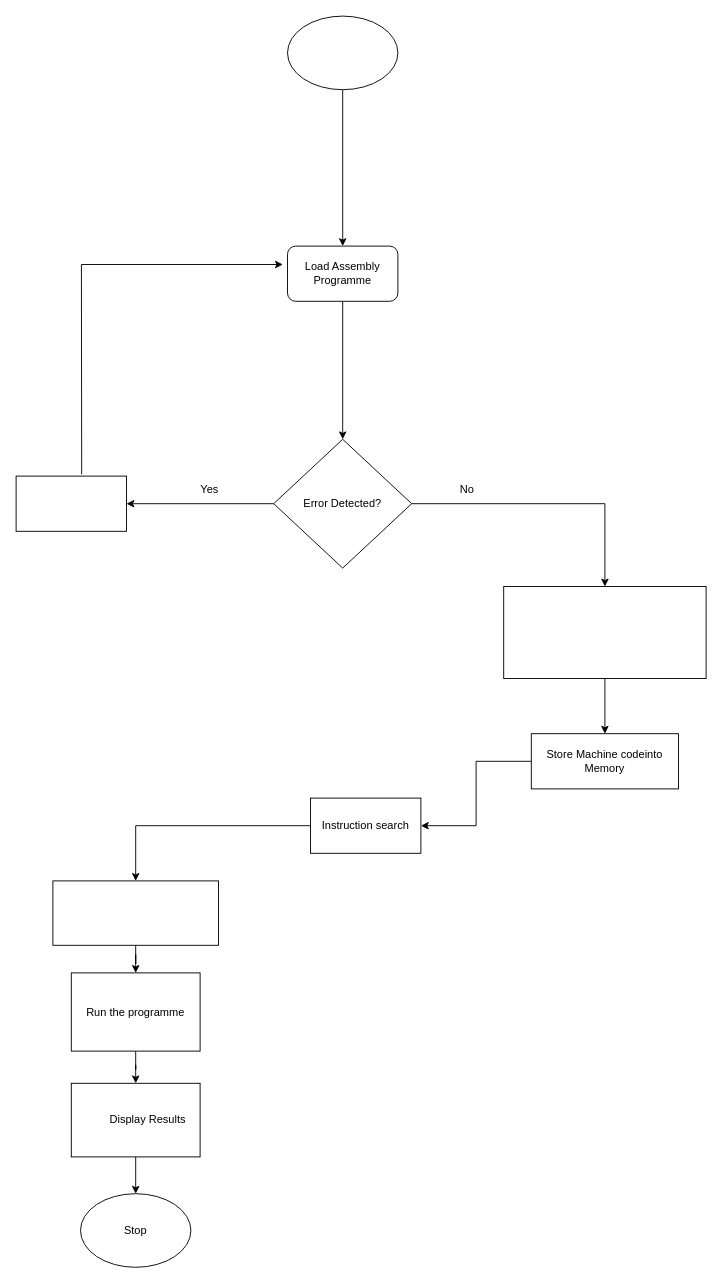
Some shapes in this 722 by 1283 pixel diagram are drawn without their labels. Each missing label, with the box of its shape:
Debugging: (15, 475, 126, 531)
Decode: (52, 880, 218, 945)
Start: (287, 15, 398, 90)
Use 2's complement for coversion into machine code: (503, 586, 706, 678)
